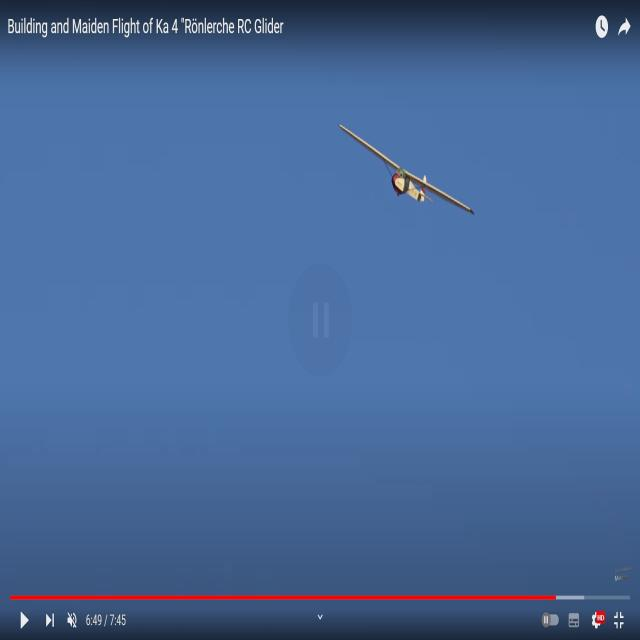iha: (341, 155, 471, 183)
